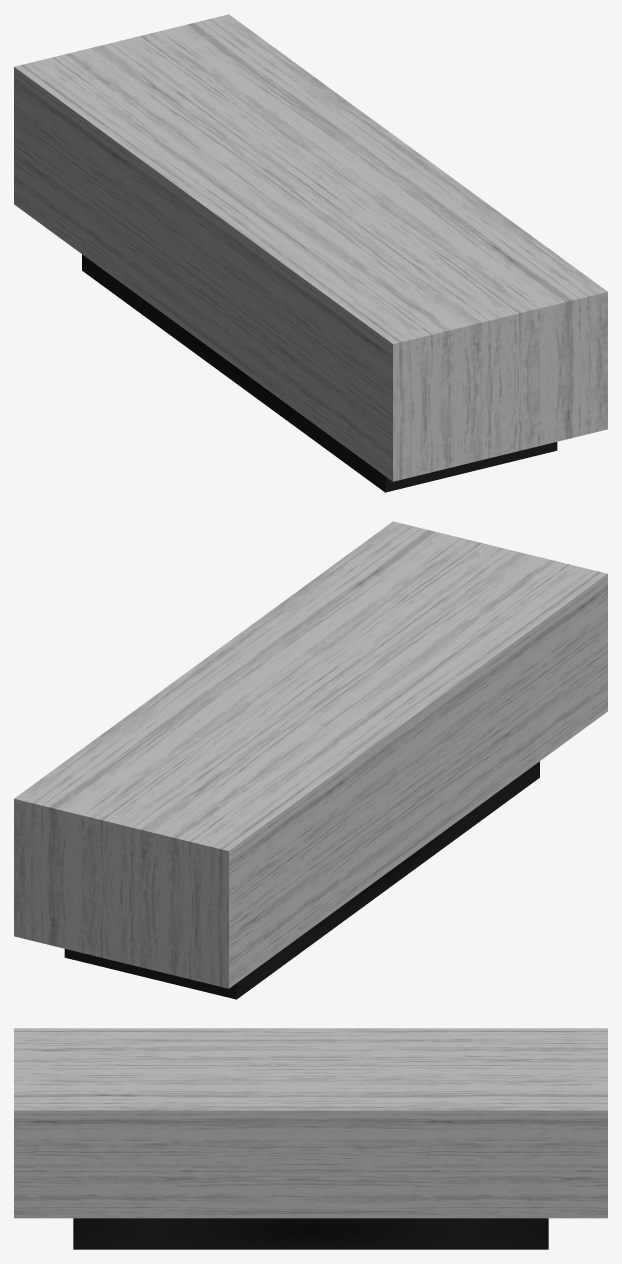
File: island.fbx
3 renders of one model, top to bottom at view 1: azimuth 30°, elevation 25°; view 2: azimuth 150°, elevation 25°; view 3: azimuth 270°, elevation 25°, orthographic. The views are drawn at different scales.
Parts seen in each view (by area): view 1: table, bottom; view 2: table, bottom; view 3: table, bottom.
Part boxes in pixels (x1=…): table: x1=14, y1=14, x2=607, y2=481; bottom: x1=82, y1=254, x2=557, y2=492; table: x1=14, y1=521, x2=607, y2=988; bottom: x1=64, y1=761, x2=539, y2=999; table: x1=14, y1=1028, x2=607, y2=1218; bottom: x1=73, y1=1218, x2=548, y2=1249.
Size of the model in its own units: 2.42 by 1.97 by 7.39.
